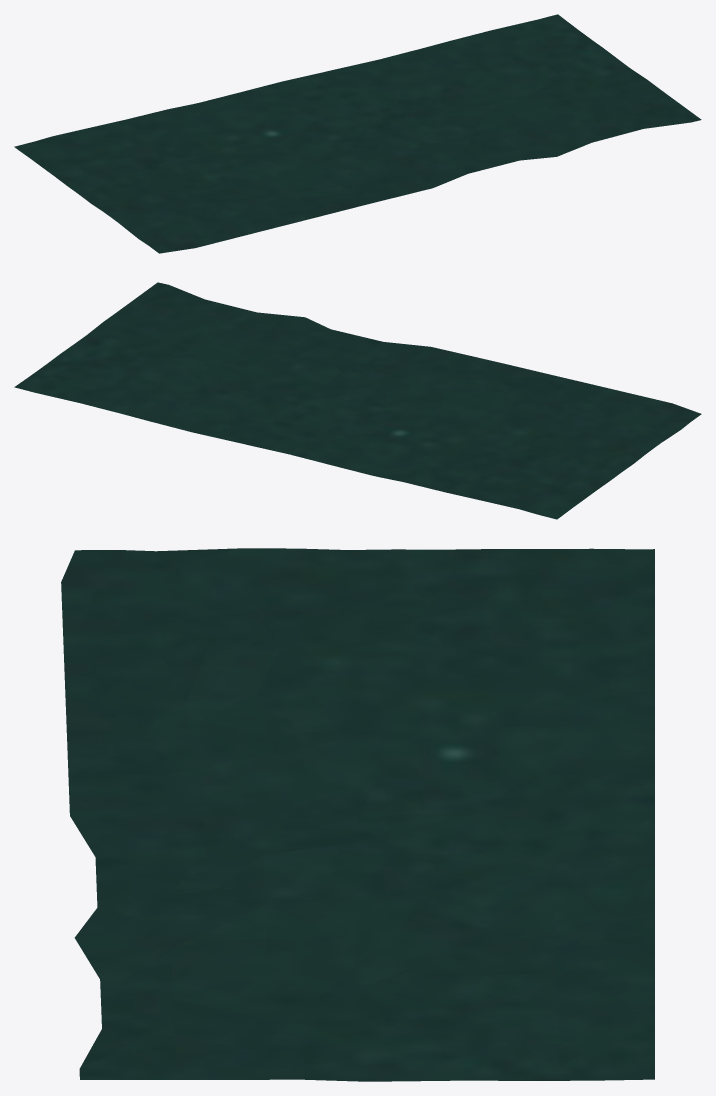
The picture shows the model from 3 angles, top to bottom: view 1: azimuth 30°, elevation 25°; view 2: azimuth 150°, elevation 25°; view 3: azimuth 270°, elevation 25°; orthographic projection. The views are drawn at different scales.
Bounding box in the file's own units: 52.22 × 0.3614 × 24.73.
2 materials, 2 textured.
